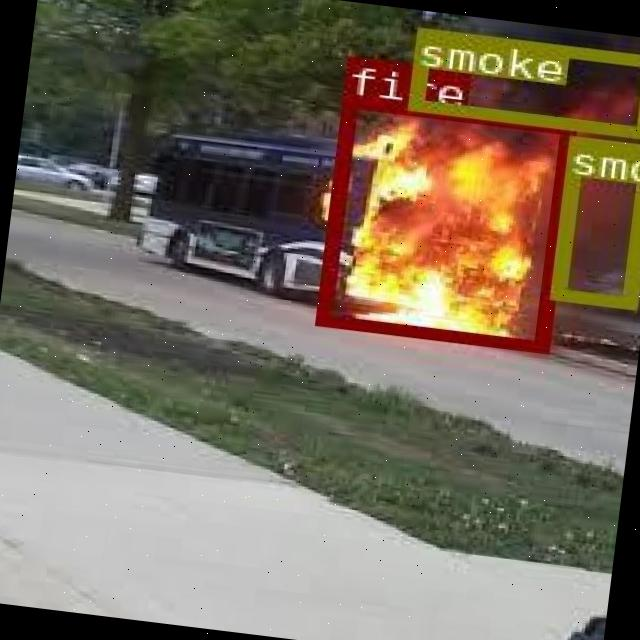fire: (313, 94, 571, 352)
smoke: (405, 25, 640, 135), (547, 135, 640, 306)
